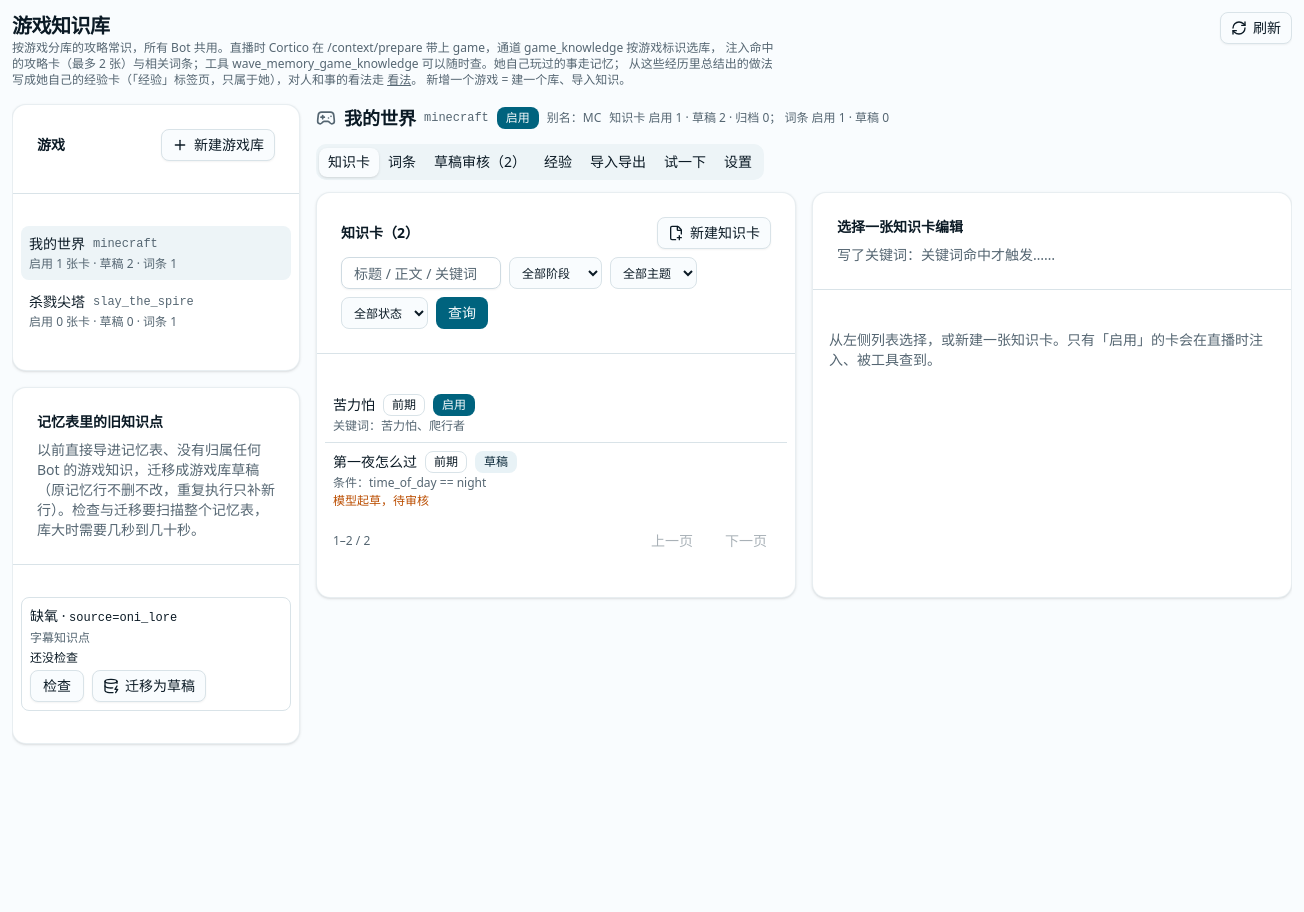
Test: GameKnowledgePage › 试一下可选 Bot：传 bot_id，经验卡标「她自己的经验」
Click the tab "试一下". click: coordinates (685, 162)
box: [655,148,715,176]
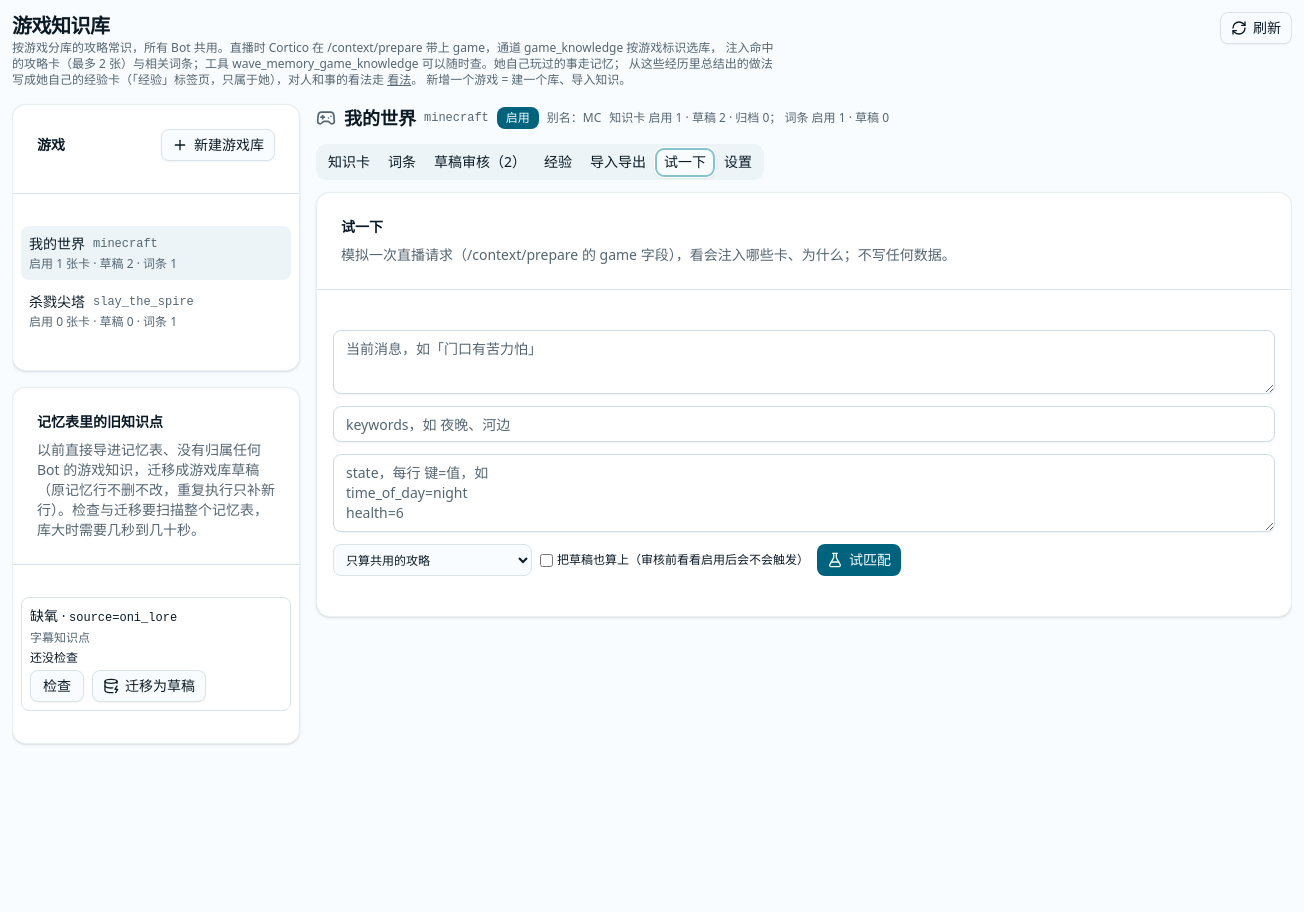
Type "下面有岩浆" into the text box named "试匹配消息". click: coordinates (804, 362)
box: [333,330,1275,394]
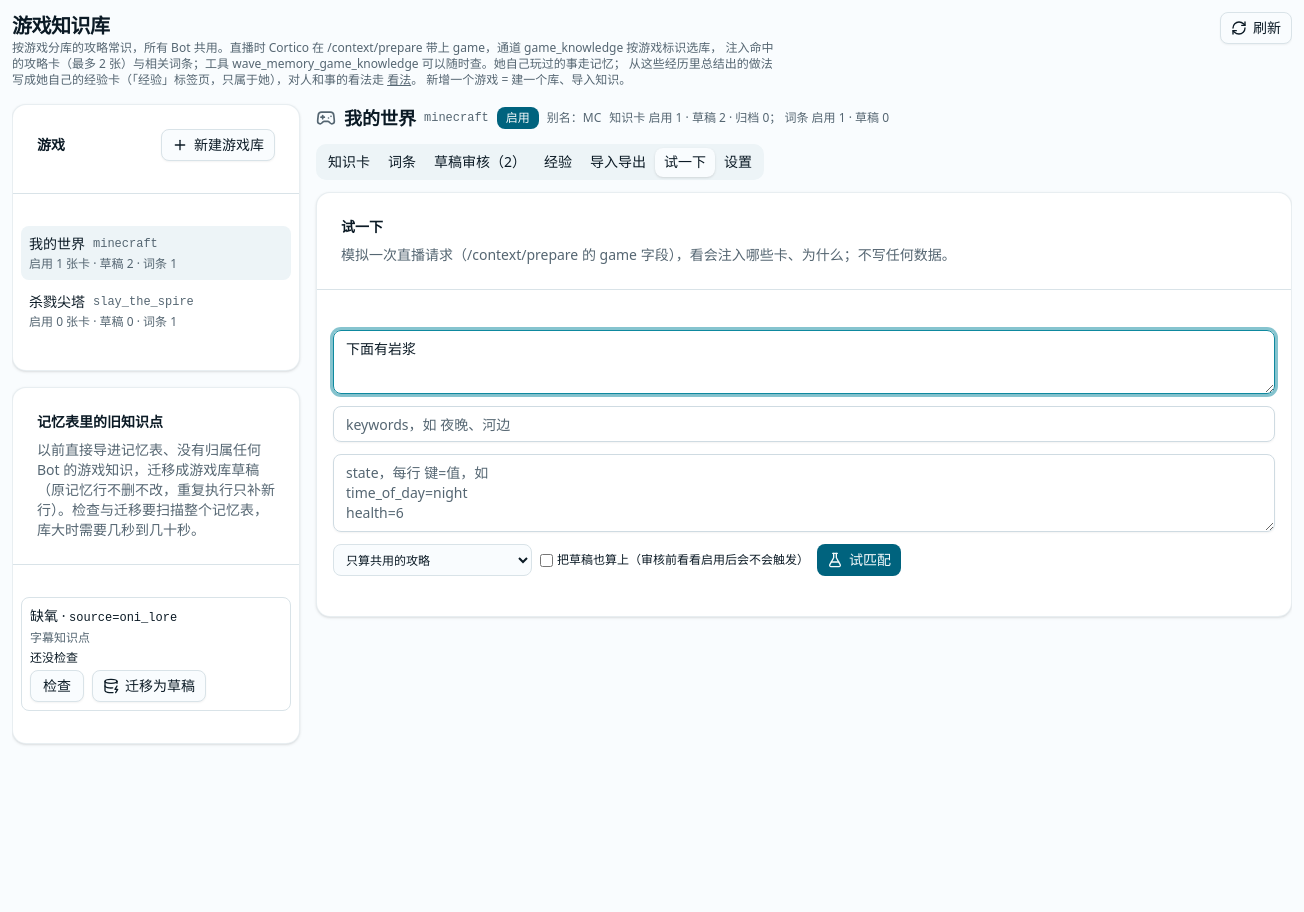
Select "连 羽书 自己的经验一起算" in the dropdown named "试匹配 Bot". click: coordinates (432, 560)
box: [333,544,532,576]
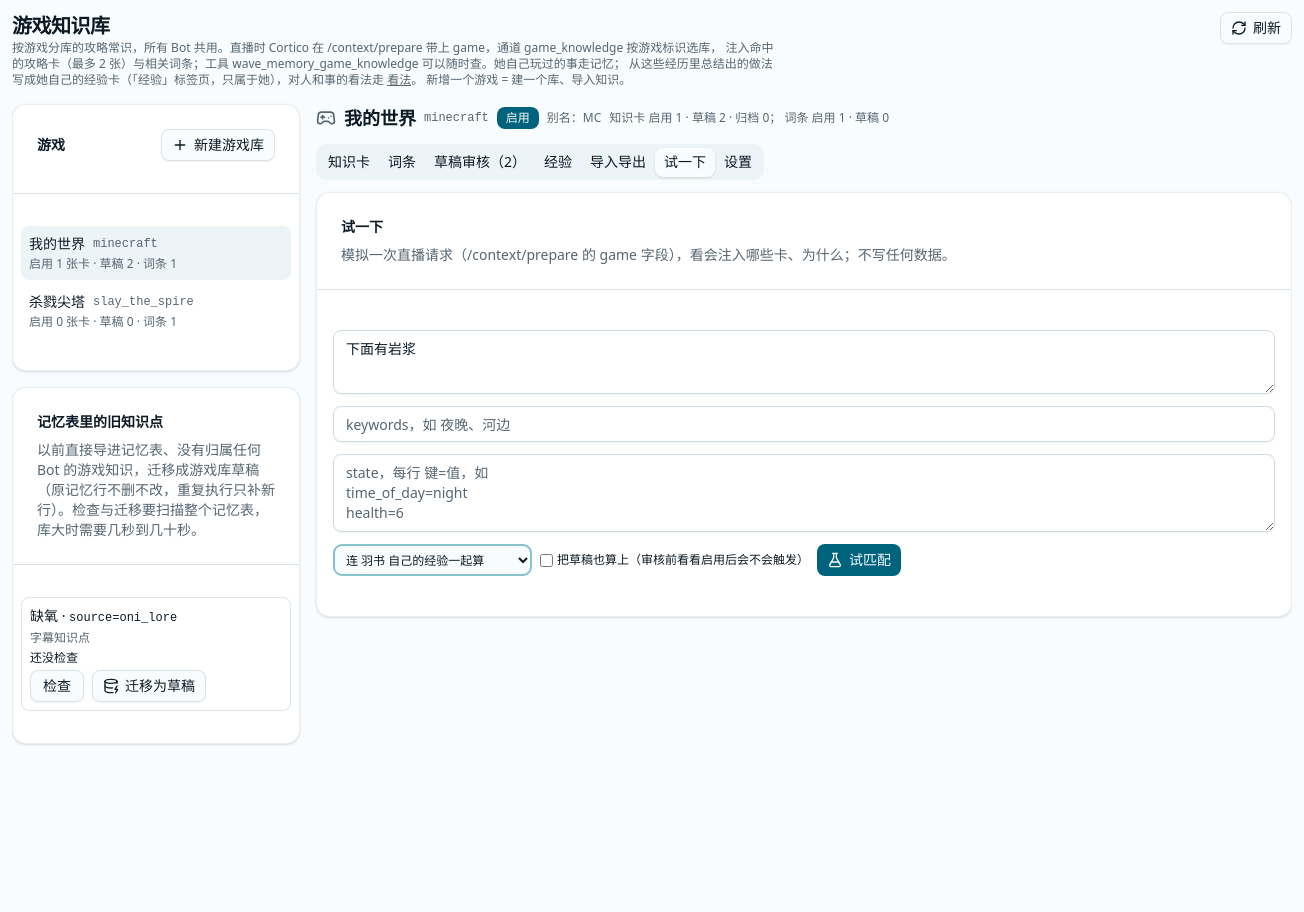
Click the button "试匹配". click: coordinates (859, 560)
box: [817,544,901,576]
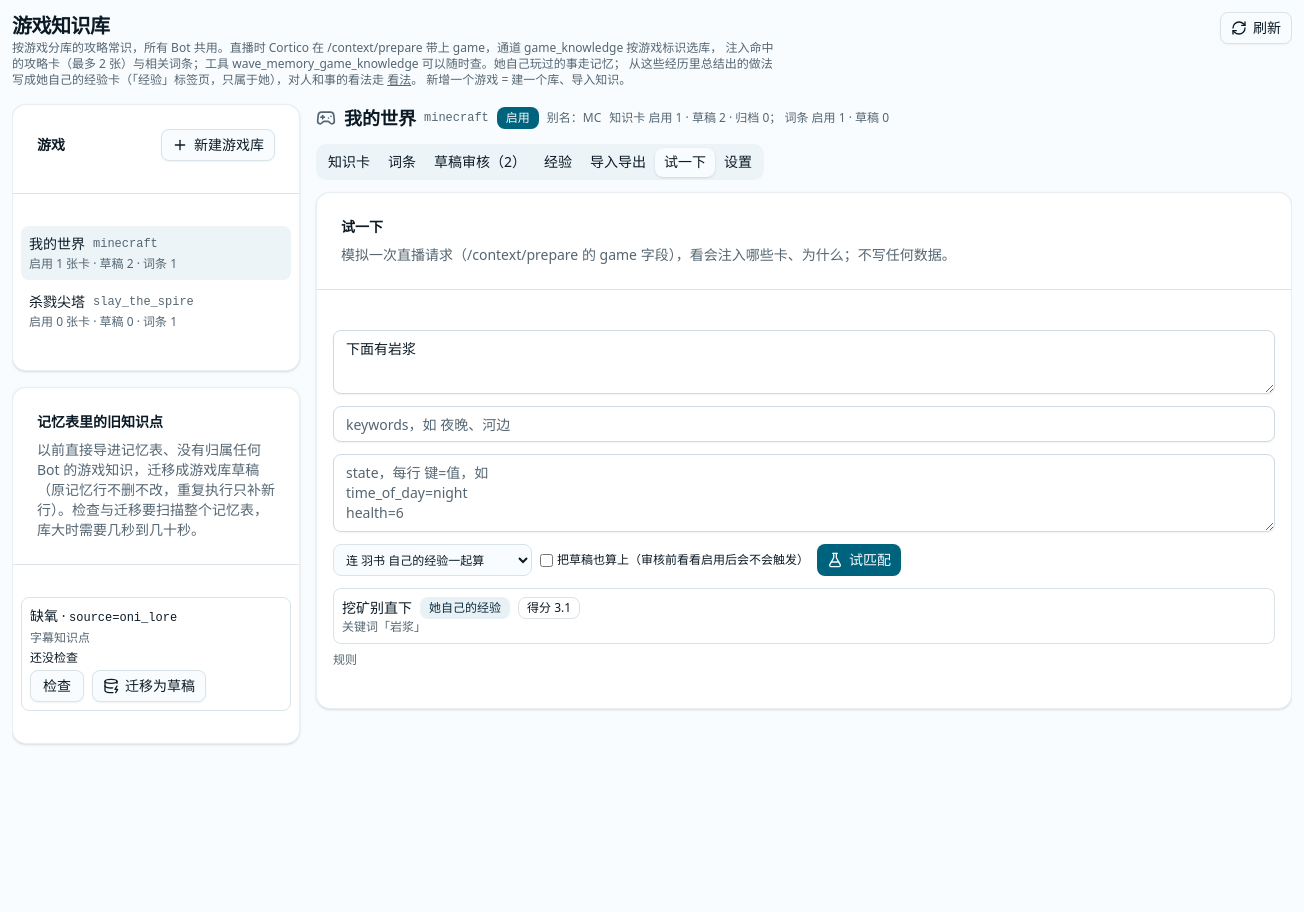
Now the text "她自己的经验" is shown, box [420,597,510,619]
